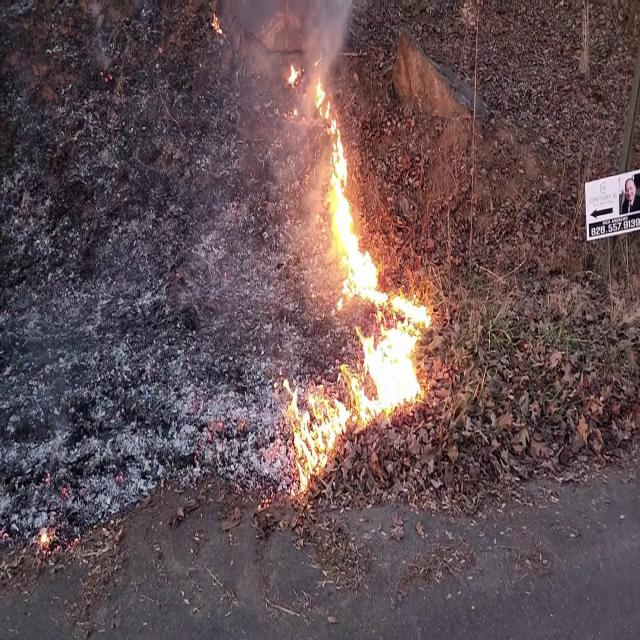Fire: (285, 84, 439, 454)
